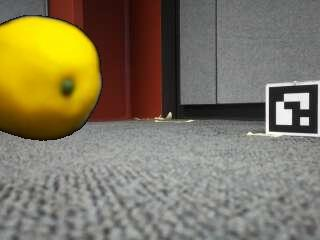lemon: (0, 17, 101, 140)
